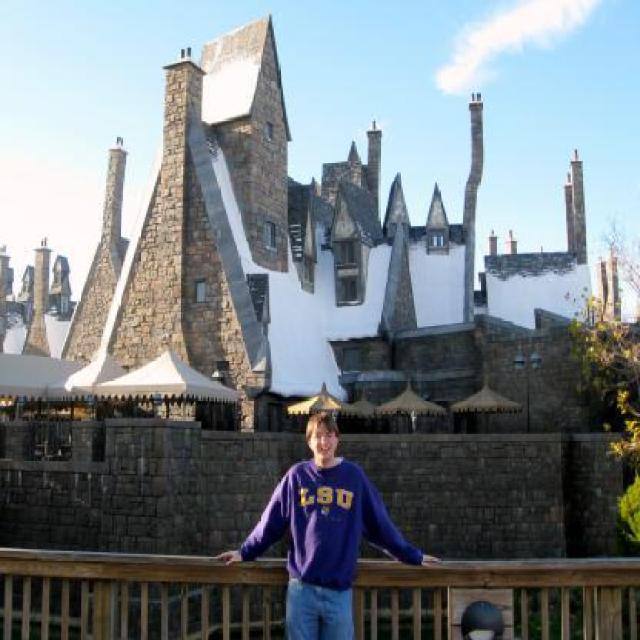Person: (252, 392, 420, 626)
